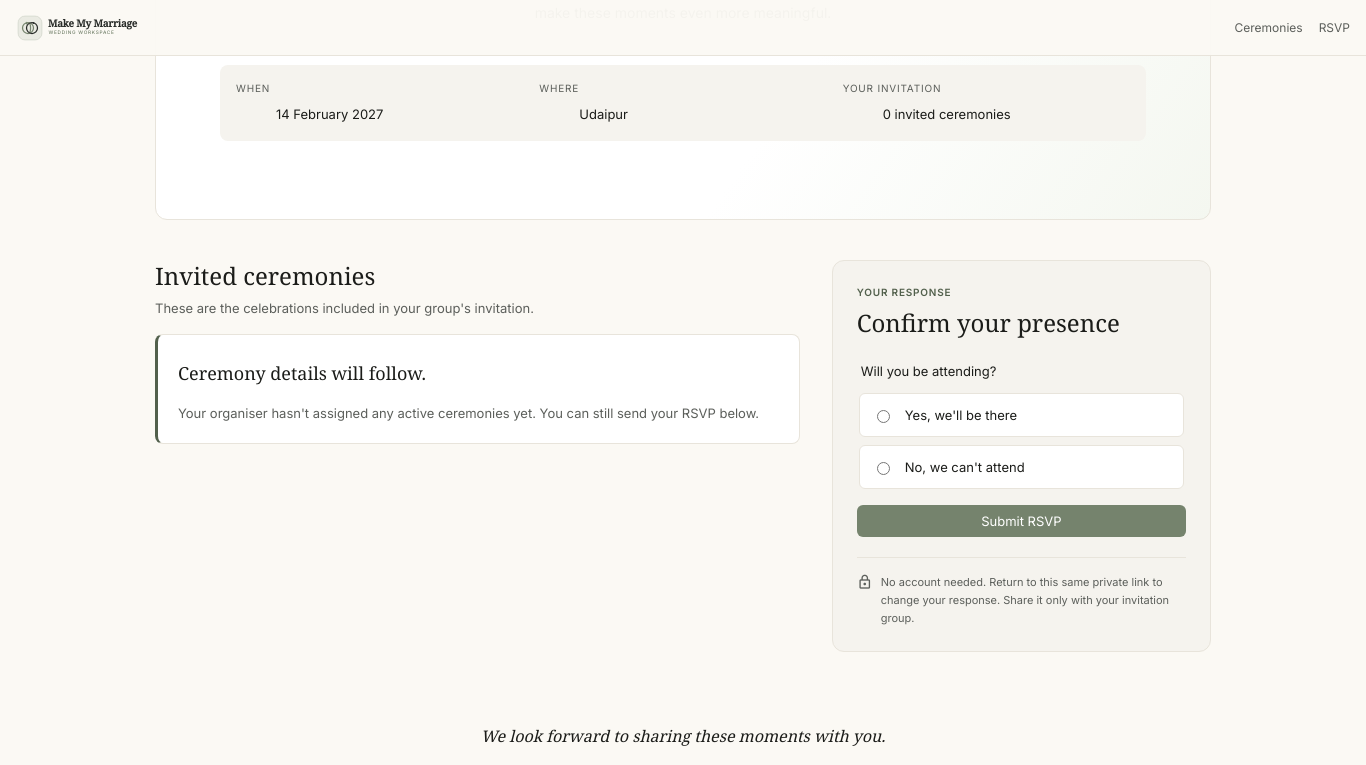
it: public invitation and RSVP › supports RSVP before ceremonies are assigned and handles a single-person invitation
The width and height of the screenshot is (1366, 765).
(page scrolled)
Expected: the text "organiser hasn't assigned" is shown, [178, 405, 759, 421]
Click the radio button labelled "Yes, we'll be there": click(883, 417) [877, 410, 890, 423]
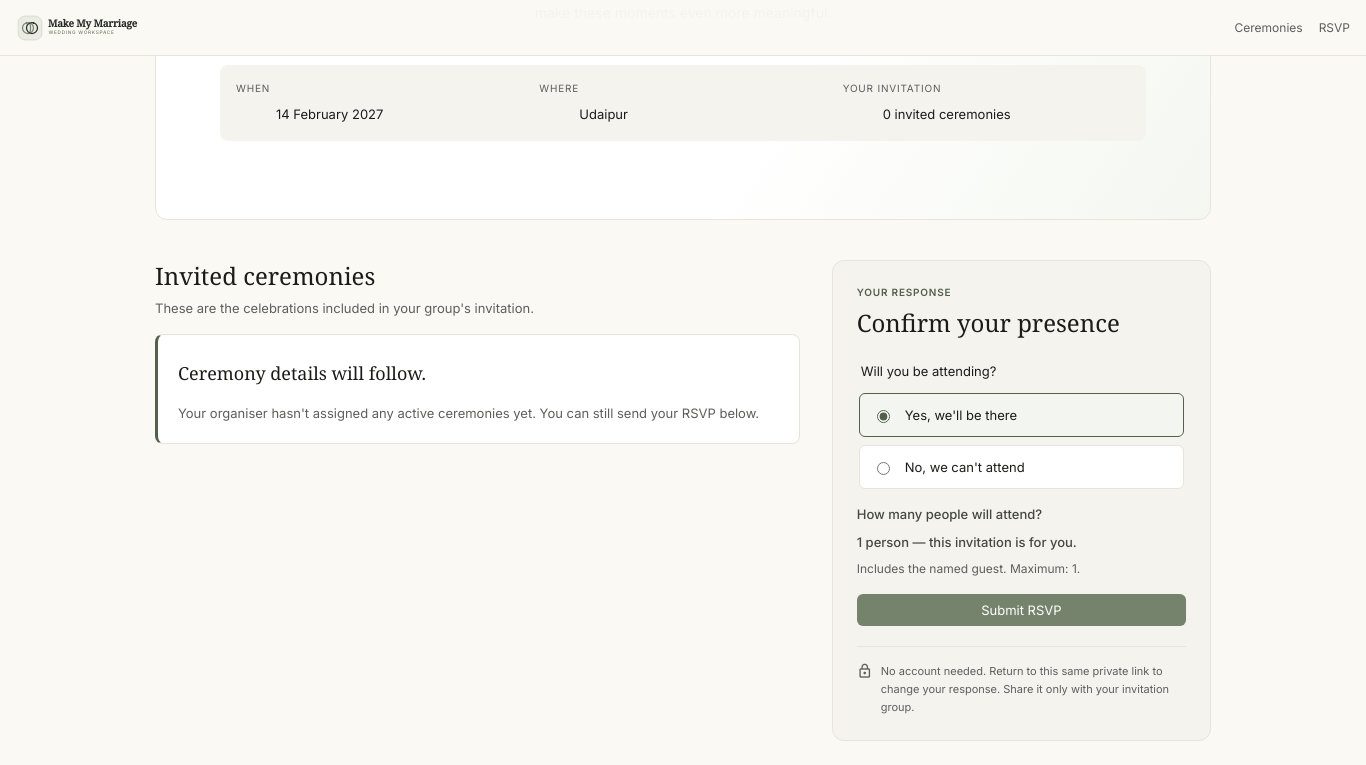
Click the button "Submit RSVP": click(1021, 610) [857, 594, 1186, 626]
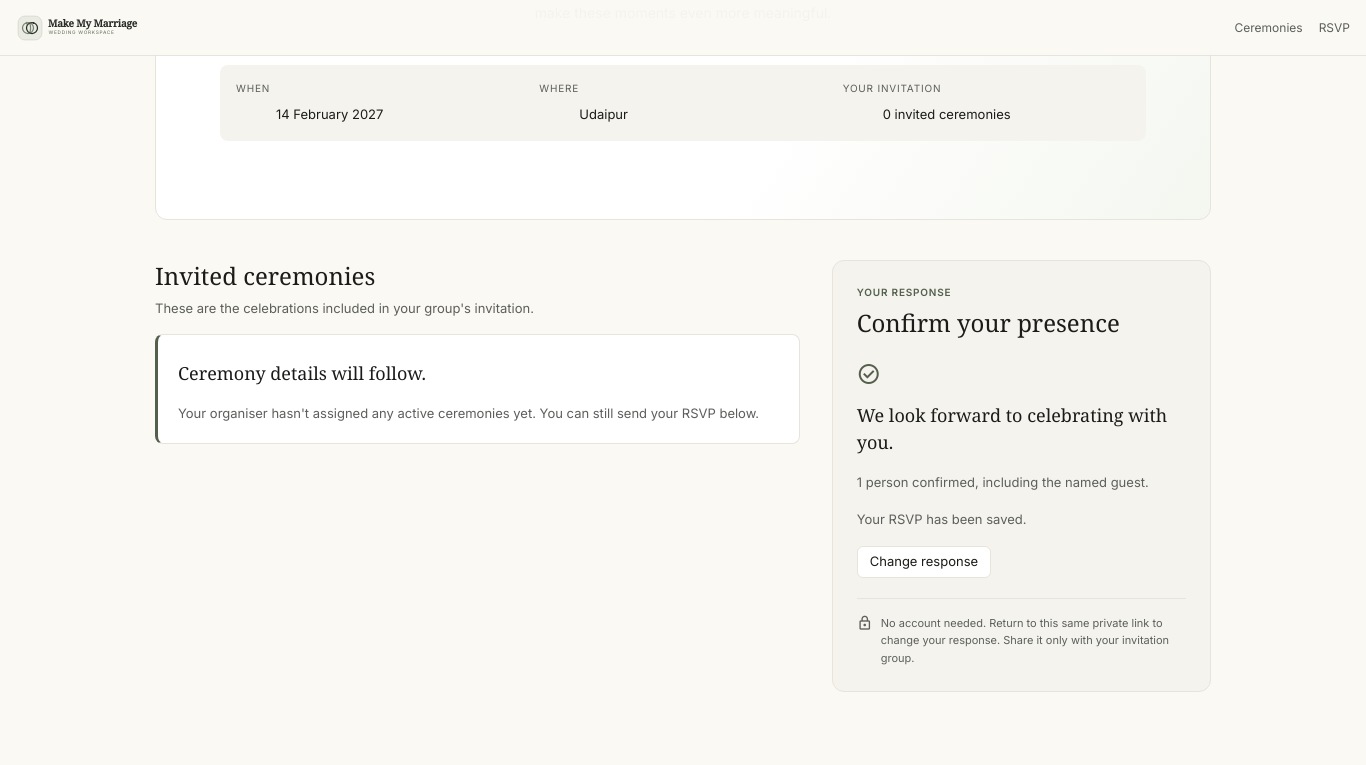
Expected: the button "Change response" is shown, [857, 546, 991, 578]
